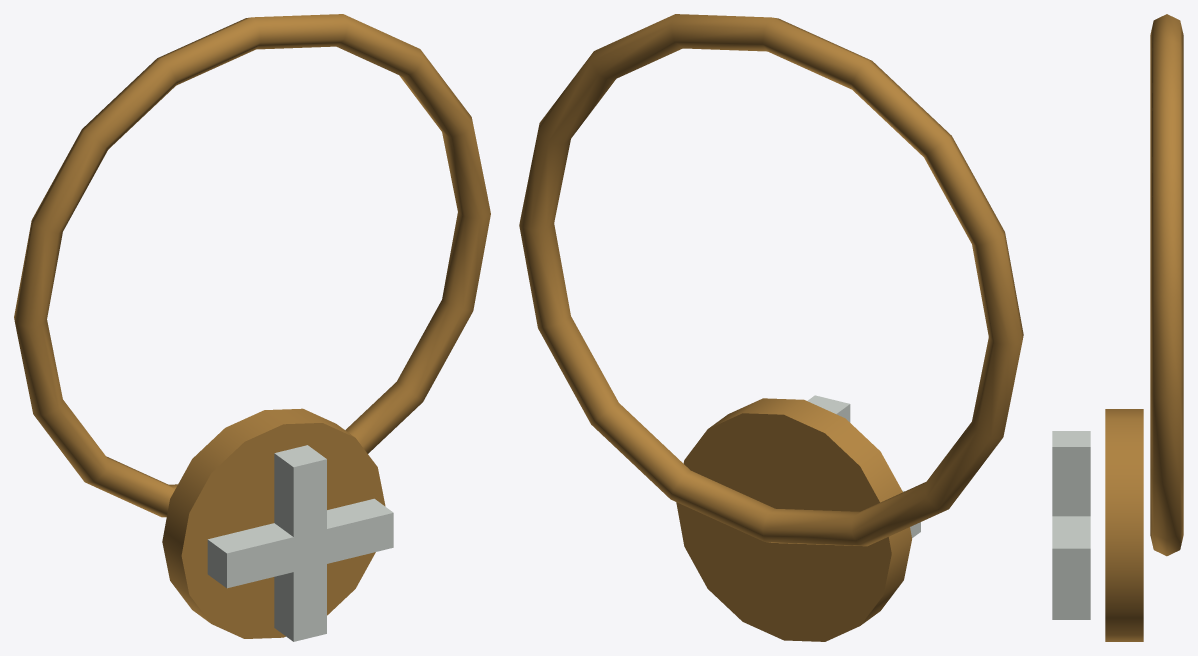
File: holy-amulet.glb
The picture shows the model from 3 angles, left to right: view 1: azimuth 30°, elevation 25°; view 2: azimuth 150°, elevation 25°; view 3: azimuth 270°, elevation 25°; orthographic projection. The views are drawn at different scales.
Parts seen in each view (by area): view 1: amulet-chain, amulet-medallion, amulet-sun (×2); view 2: amulet-chain, amulet-medallion; view 3: amulet-chain, amulet-medallion, amulet-sun (×2).
Boxes of the visible parts, x1,y1,x2,y2 form: amulet-chain: (14,14,490,517); amulet-medallion: (162,408,385,638); amulet-sun (×2): (207,445,393,641); amulet-chain: (519,14,1023,546); amulet-medallion: (676,398,911,641); amulet-chain: (1150,14,1183,556); amulet-medallion: (1105,409,1143,641); amulet-sun (×2): (1052,431,1090,619).
Size of the model in its own units: 0.256 by 0.308 by 0.0618.
